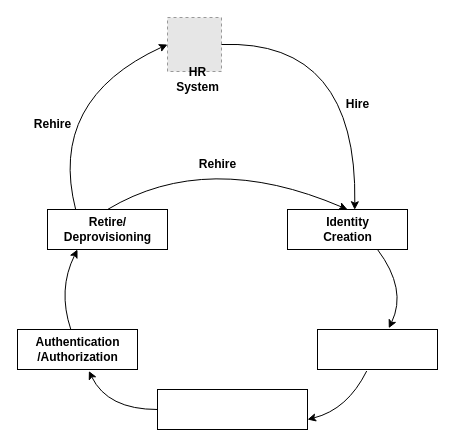
This 455x447 diagram has some shape labels left out. Grey dashed boxes stand in for pictures. Here are the shapes that lost their labels. From the top down, the centre of each, then its label:
[377,349]: Profile Enrichment
[232,409]: Entitlements Management
